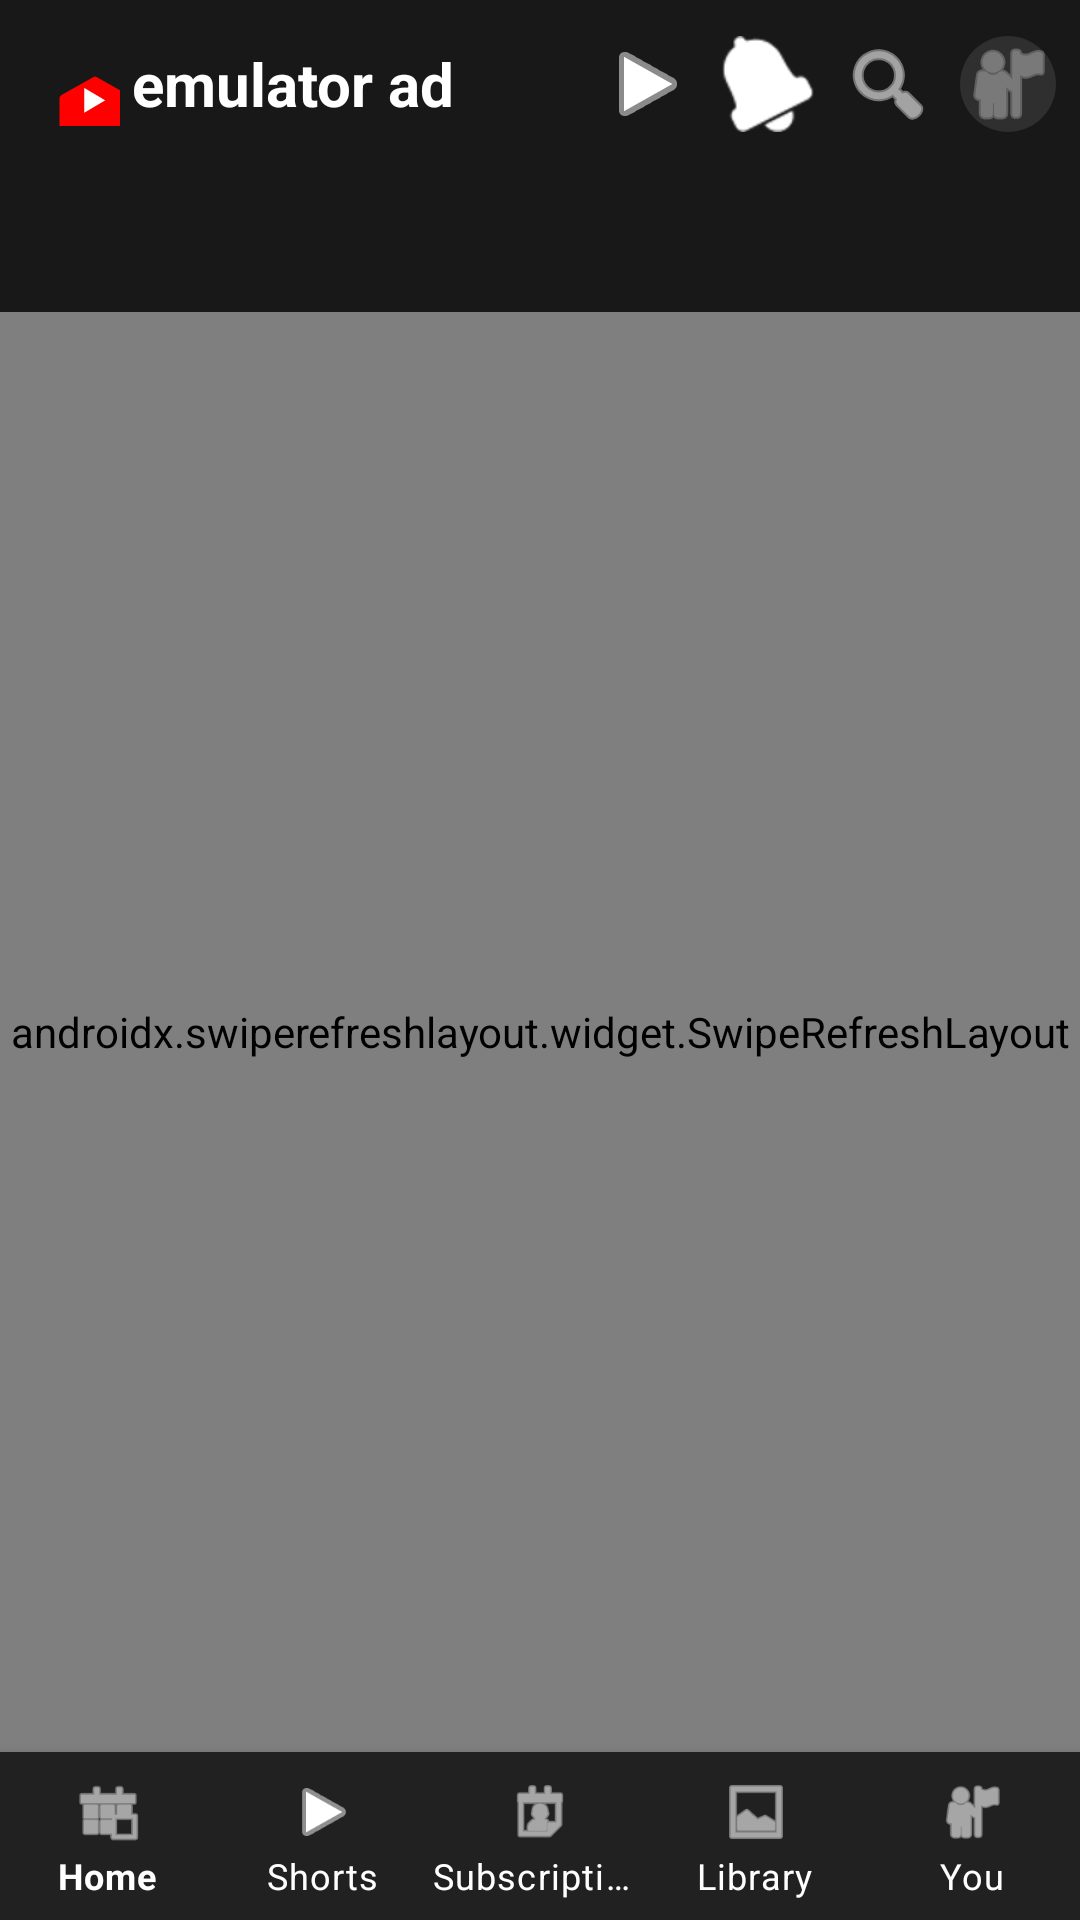

Named icons in this screenshot (1080 x 1920) and their centers, [x,y]:
Notifications: [768,84]
Search: [888,84]
